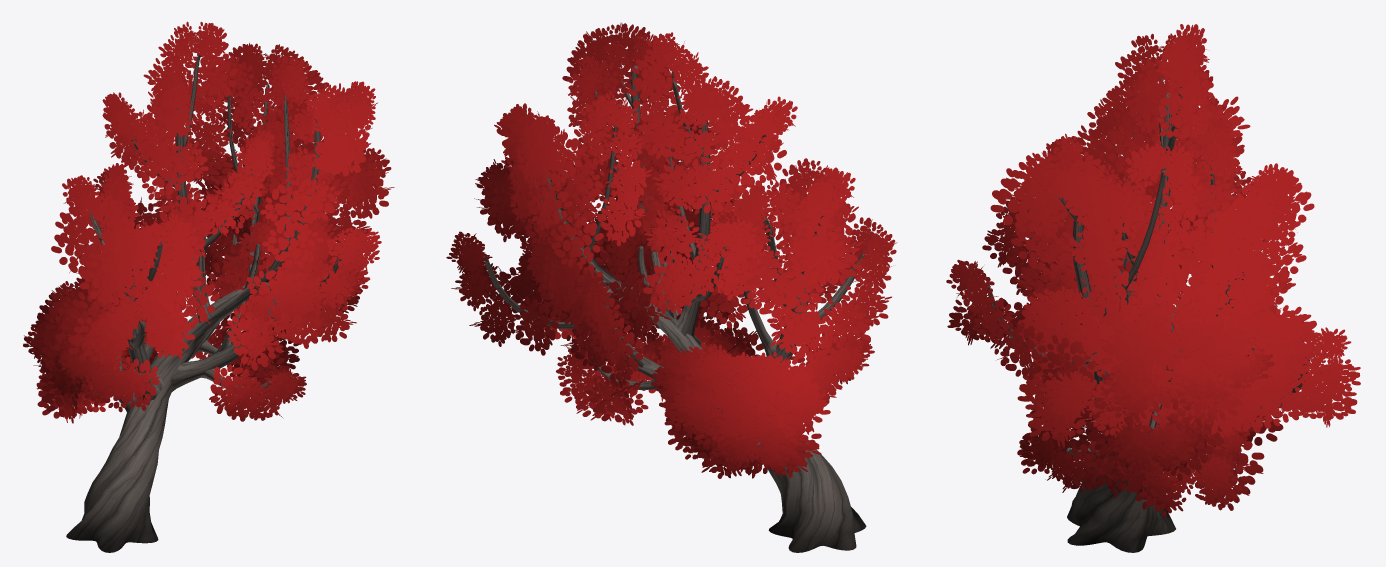
File: TwistedTree_1.gltf
The picture shows the model from 3 angles, left to right: view 1: azimuth 30°, elevation 25°; view 2: azimuth 150°, elevation 25°; view 3: azimuth 270°, elevation 25°; orthographic projection. The views are drawn at different scales.
Parts seen in each view (by area): view 1: TwistedTree_1; view 2: TwistedTree_1; view 3: TwistedTree_1.
Boxes of the visible parts, x1=… form: TwistedTree_1: x1=23, y1=21, x2=394, y2=552; TwistedTree_1: x1=446, y1=22, x2=897, y2=552; TwistedTree_1: x1=946, y1=24, x2=1360, y2=552.
Size of the model in its own units: 13.52 by 16.73 by 11.55.
Materials: 2 (2 with a texture image).
